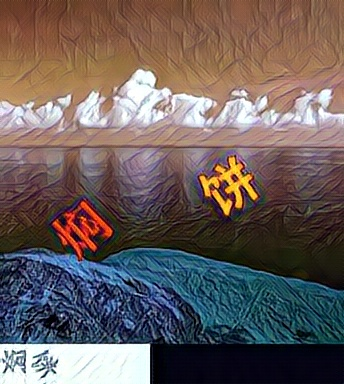B1FD: (195, 155, 260, 219)
ECCB: (50, 197, 115, 261)
